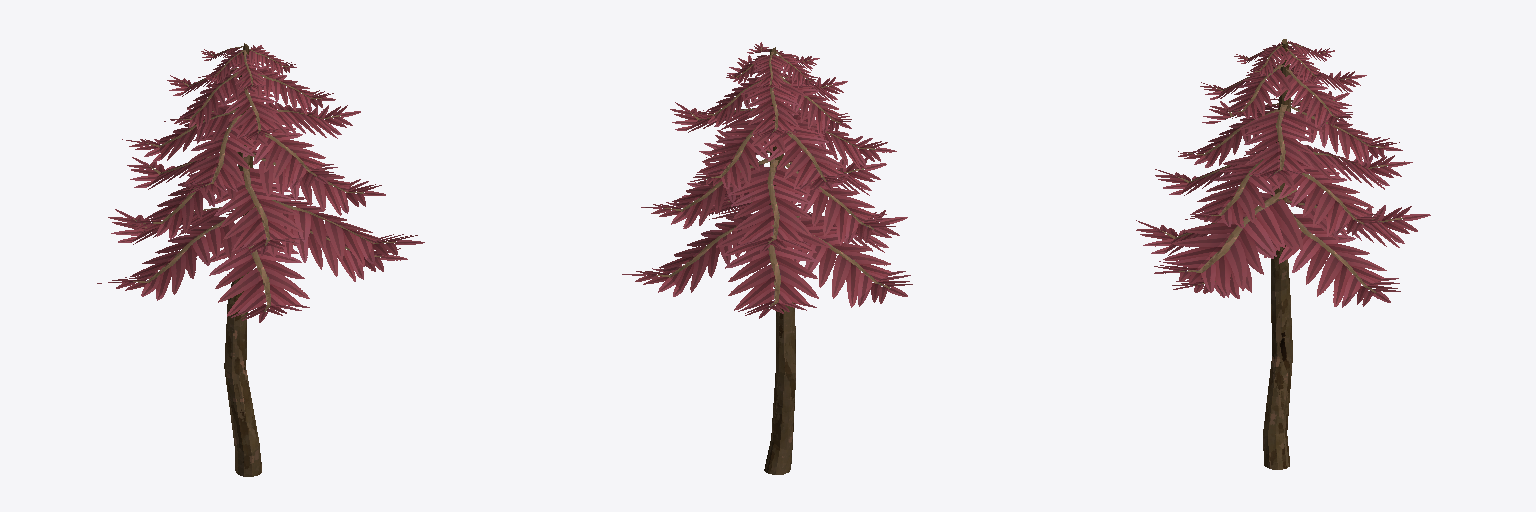
3 renders of one model, left to right at view 1: azimuth 30°, elevation 25°; view 2: azimuth 150°, elevation 25°; view 3: azimuth 270°, elevation 25°, orthographic.
Parts seen in each view (by area): view 1: Pine_4_Cylinder.031; view 2: Pine_4_Cylinder.031; view 3: Pine_4_Cylinder.031.
Boxes of the visible parts, x1,y1,x2,y2 form: Pine_4_Cylinder.031: [97, 43, 424, 476]; Pine_4_Cylinder.031: [622, 42, 912, 474]; Pine_4_Cylinder.031: [1136, 39, 1430, 469].
Size of the model in its own units: 4.31 by 5.67 by 4.18.
2 materials, 2 textured.